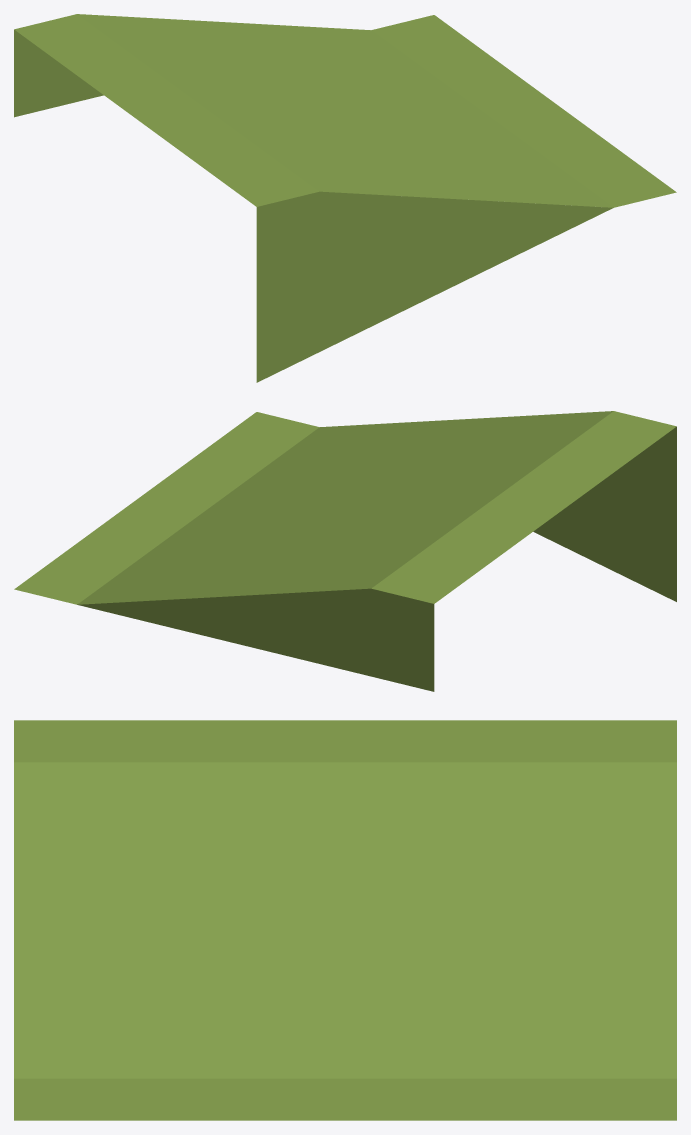
Rendered from grass-tile_08.fbx.
3 views of the same model, one above another, from view 1: azimuth 30°, elevation 25°; view 2: azimuth 150°, elevation 25°; view 3: azimuth 270°, elevation 25° (orthographic). The views are drawn at different scales.
Parts seen in each view (by area): view 1: grass-tile_08; view 2: grass-tile_08; view 3: grass-tile_08.
Part boxes in pixels (x1=…): grass-tile_08: x1=14, y1=14, x2=676, y2=382; grass-tile_08: x1=14, y1=411, x2=676, y2=691; grass-tile_08: x1=14, y1=720, x2=676, y2=1120.
Bounding box in the file's own units: 1000 × 400 × 1000.
